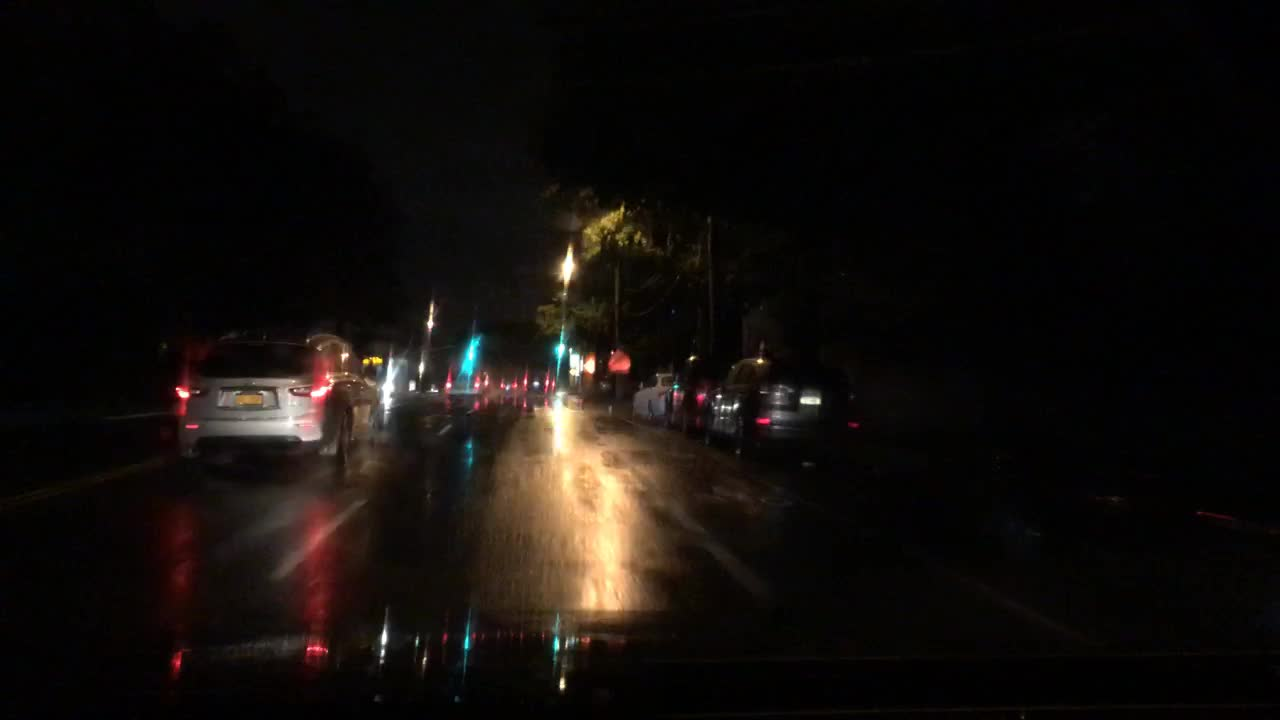car: (979, 416, 1279, 634), (176, 324, 379, 469), (703, 343, 866, 467), (667, 343, 742, 435), (629, 370, 676, 427)
traffic light: (472, 328, 479, 350), (555, 338, 562, 351)
traffic sign: (604, 346, 629, 372)
